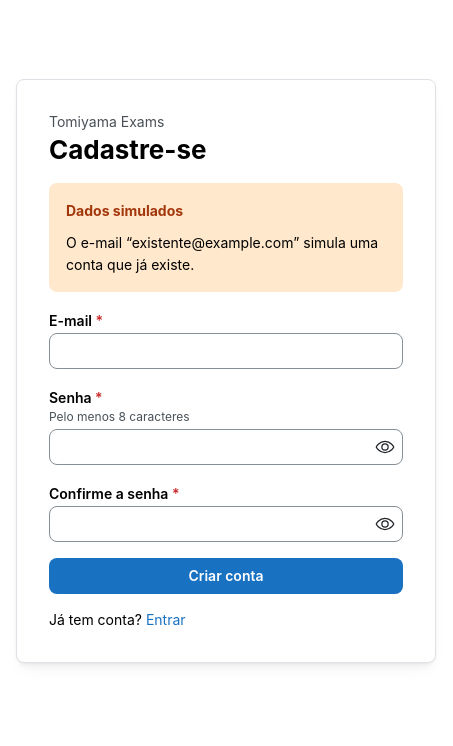
Test: cadastro de responsável (§ 6.1): passo do e-mail e senha › valida {"password":"curta12"} no cliente
Type "mae@example.com" into the field labelled "E-mail *" at (226, 351), box [49,333,403,369]
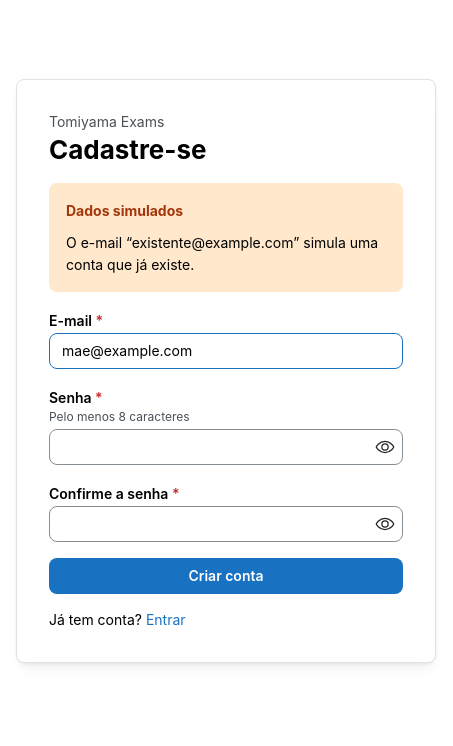
Type "curta12" into the password field labelled "Senha *" at (226, 447), box [50,430,402,464]
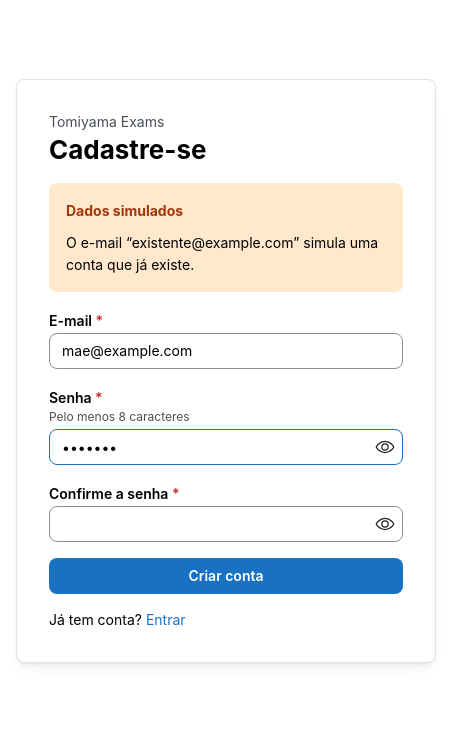
Type "curta12" into the password field labelled "Confirme a senha *" at (226, 524), box [50,507,402,541]
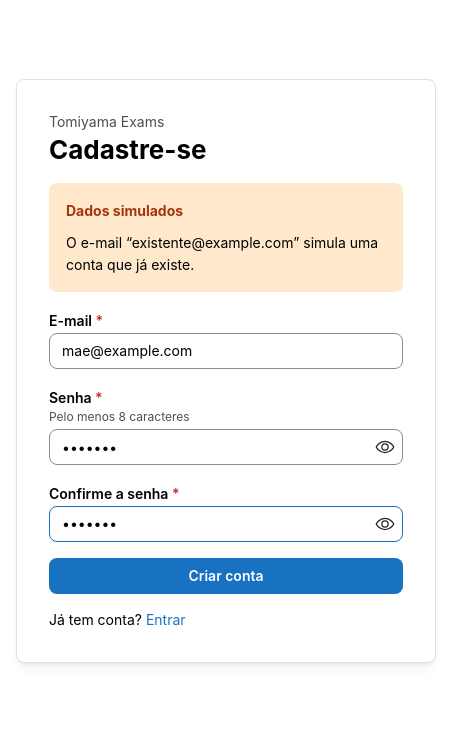
Click the button "Criar conta" at (226, 576), box [49,558,403,594]
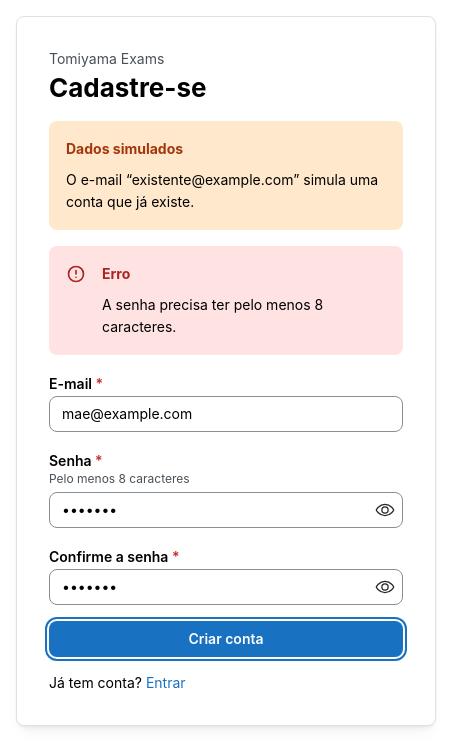
expect the heading "Cadastre-se" is shown: met, box [49,72,207,102]
expect the message shows "A senha precisa ter pelo menos 8 caracteres.": met, box [102,296,323,335]
